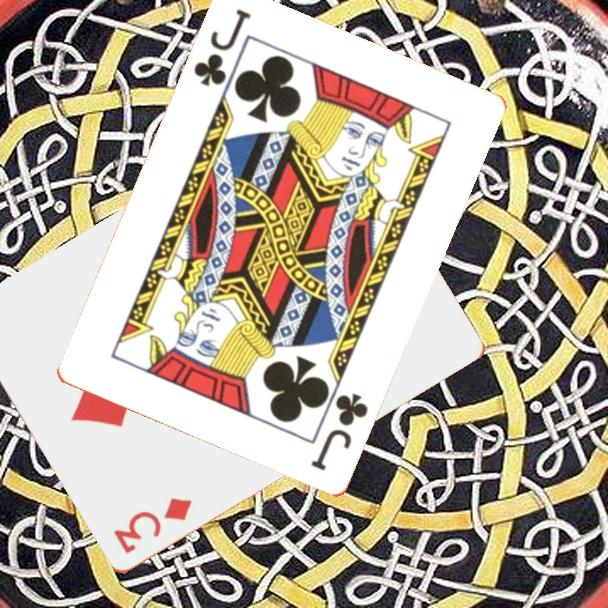c11: (307, 390, 372, 475), (190, 6, 254, 91)
d03: (110, 494, 195, 558)
